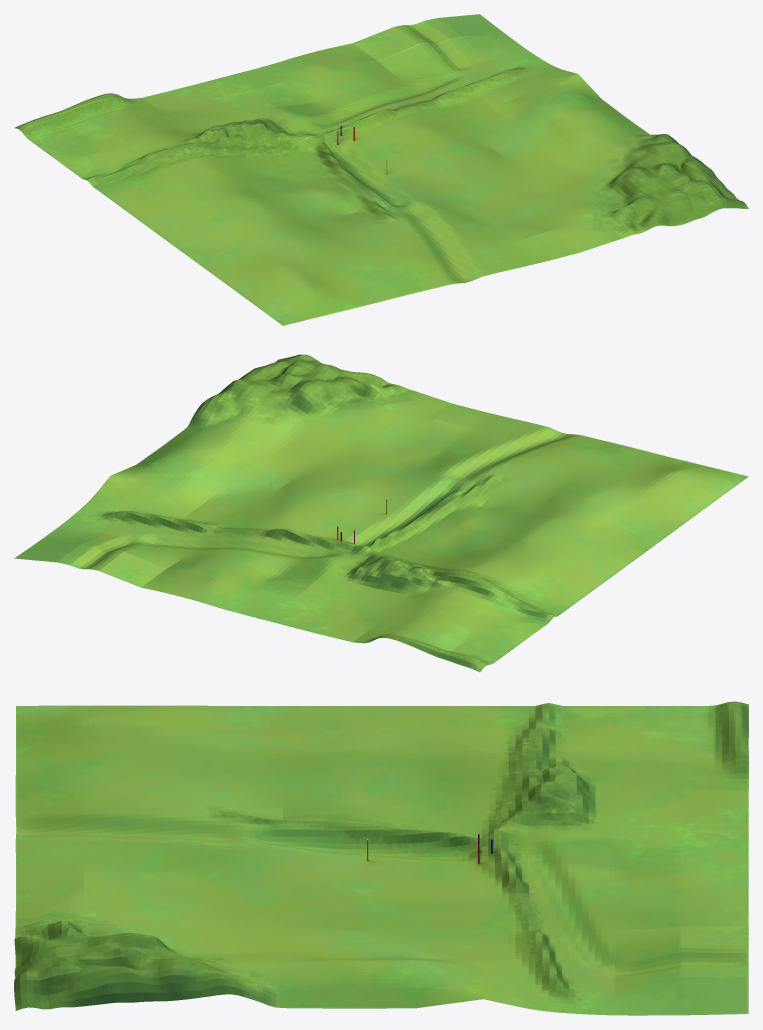
File: general_scene2.gltf
The picture shows the model from 3 angles, top to bottom: view 1: azimuth 30°, elevation 25°; view 2: azimuth 150°, elevation 25°; view 3: azimuth 270°, elevation 25°; orthographic projection. The views are drawn at different scales.
Parts seen in each view (by area): view 1: Plane; view 2: Plane; view 3: Plane.
Boxes of the visible parts, left/top/right/bottom form: Plane: left=14, top=14, right=748, bottom=325; Plane: left=14, top=354, right=748, bottom=672; Plane: left=14, top=701, right=748, bottom=1015.
Size of the model in its own units: 997 by 64.32 by 995.
Materials: 1 (1 with a texture image).
